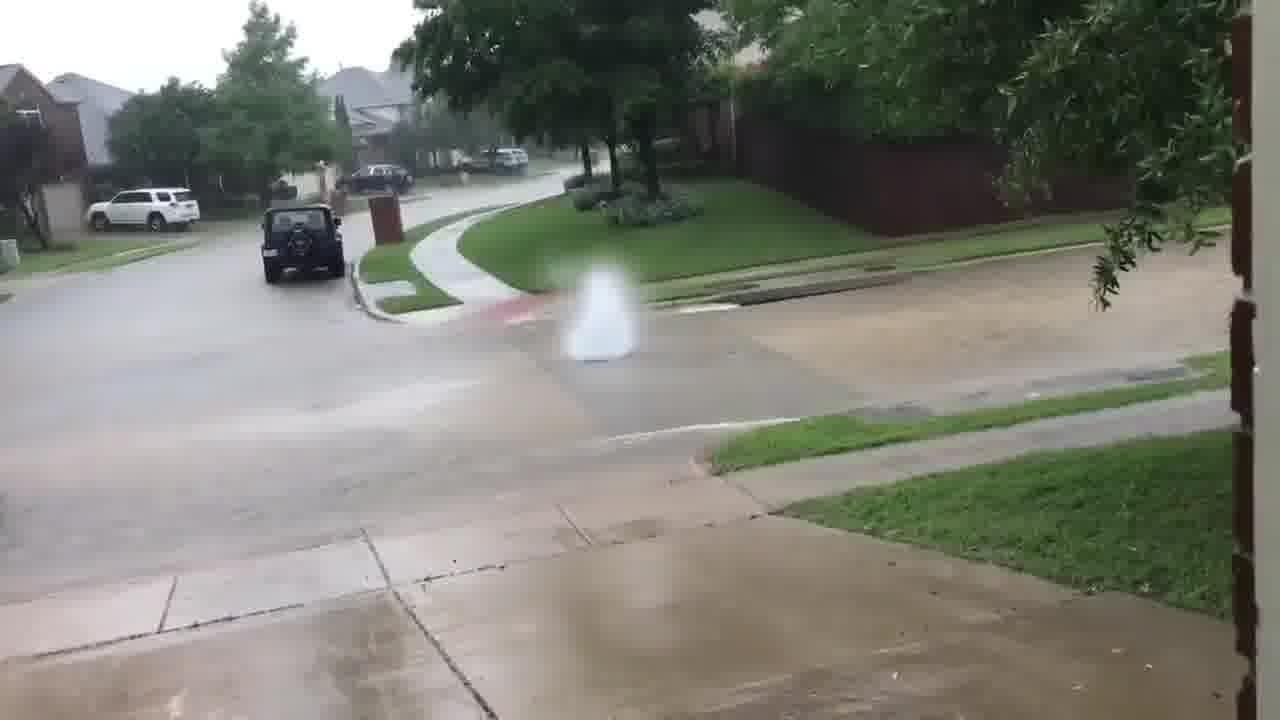drainage overflow-repair-: (532, 253, 663, 385)
